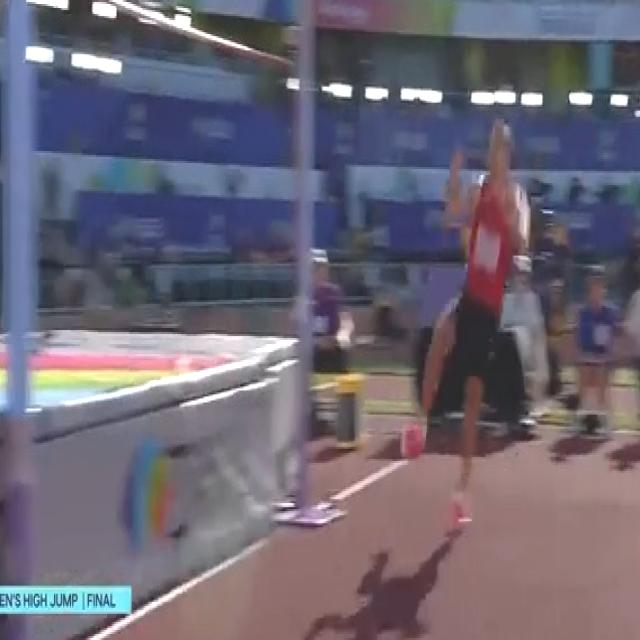jump: (398, 114, 533, 533)
